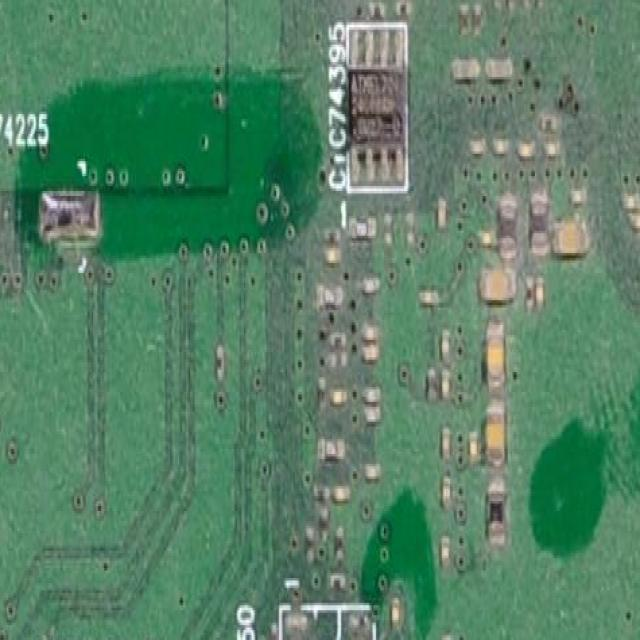IC: (336, 22, 405, 207), (273, 603, 380, 640)
capacitor: (477, 253, 515, 326), (485, 402, 514, 483), (478, 322, 508, 392), (543, 208, 577, 262), (447, 52, 486, 88), (486, 59, 516, 86)
resistor: (481, 479, 510, 548), (524, 191, 550, 264), (496, 194, 520, 267)
